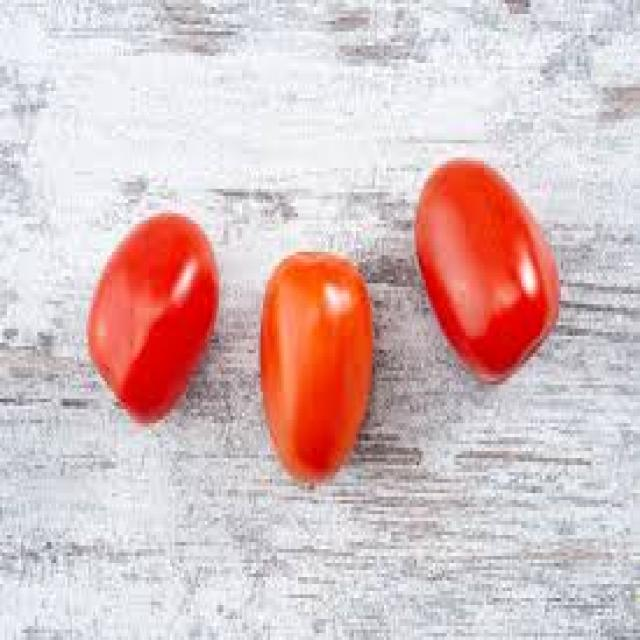Fresh_tomato: (413, 158, 566, 395), (254, 252, 376, 484), (98, 210, 209, 416)
